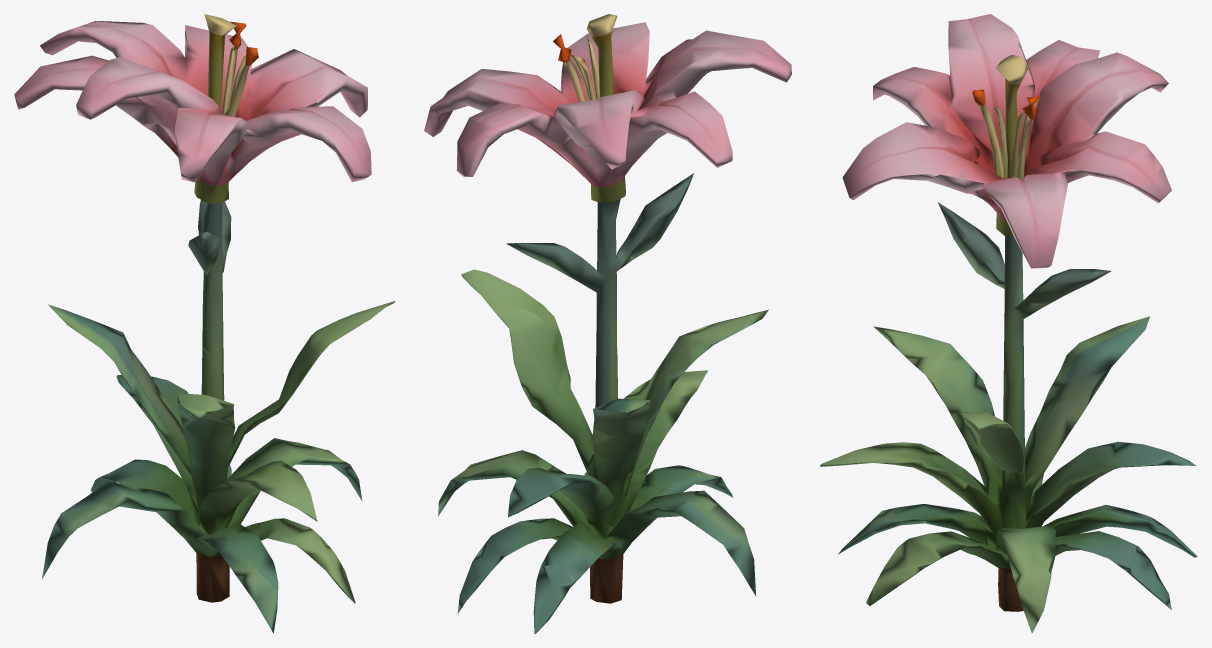
The model's file is lily.glb.
3 renders of one model, left to right at view 1: azimuth 30°, elevation 25°; view 2: azimuth 150°, elevation 25°; view 3: azimuth 270°, elevation 25°, orthographic. The views are drawn at different scales.
Visible parts, largest first — view 1: tripo_node_437914e4-a687-4038-a57b-59c0398c4692; view 2: tripo_node_437914e4-a687-4038-a57b-59c0398c4692; view 3: tripo_node_437914e4-a687-4038-a57b-59c0398c4692.
Part boxes in pixels (x1,y1,x2,y2): tripo_node_437914e4-a687-4038-a57b-59c0398c4692: [14, 14, 395, 633]; tripo_node_437914e4-a687-4038-a57b-59c0398c4692: [424, 14, 791, 633]; tripo_node_437914e4-a687-4038-a57b-59c0398c4692: [820, 14, 1197, 633].
Bounding box in the file's own units: 0.5848 × 1 × 0.6246.
Materials: 1 (1 with a texture image).
